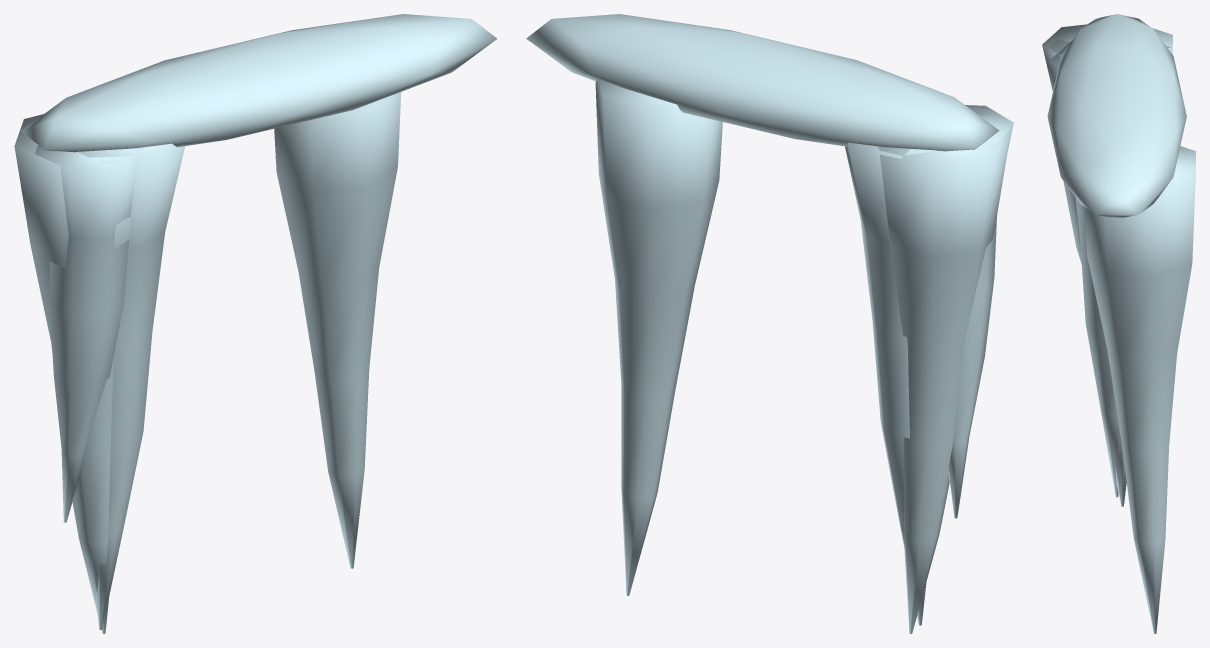
Rendered from icicles_a.glb.
The picture shows the model from 3 angles, left to right: view 1: azimuth 30°, elevation 25°; view 2: azimuth 150°, elevation 25°; view 3: azimuth 270°, elevation 25°; orthographic projection. The views are drawn at different scales.
Visible parts, largest first — view 1: Icicles; view 2: Icicles; view 3: Icicles.
Boxes of the visible parts, left/top/right/bottom form: Icicles: left=14, top=14, right=497, bottom=633; Icicles: left=526, top=14, right=1013, bottom=633; Icicles: left=1042, top=14, right=1195, bottom=633.
Size of the model in its own units: 1.37 by 1.57 by 0.4416.
